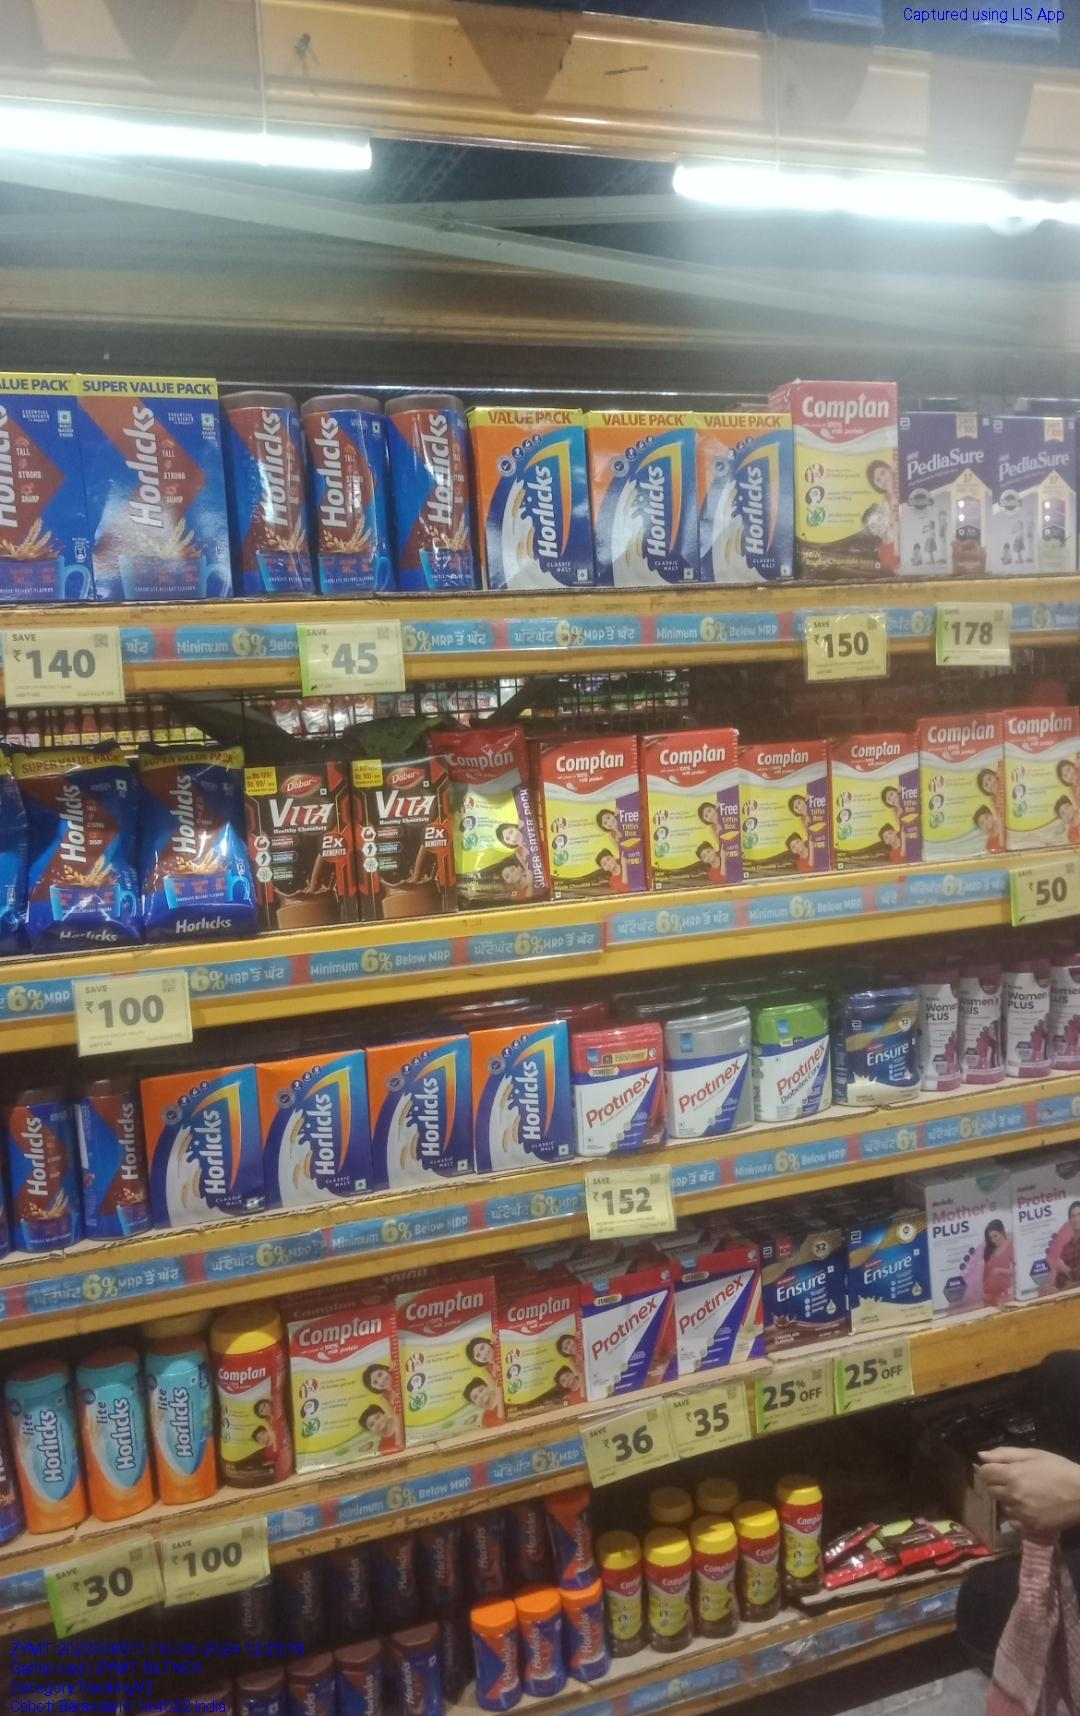ENSURE_VANILLA_400_G_PACK: (854, 1227, 926, 1322)
HORLICKS_LITE_REGULAR_MALT_500_GM_JAR: (152, 1349, 215, 1502), (90, 1355, 146, 1526), (15, 1360, 71, 1529)
HORLICK_CLASSIC_MALT_500_G_PACK: (148, 1063, 265, 1231), (367, 1035, 477, 1192), (269, 1045, 367, 1207), (480, 1020, 567, 1171)
PEDIASURE_CHOCOLATE_500_G_PACK: (905, 417, 998, 580)
PEDIASURE_VANILLA_500_G_PACK: (995, 402, 1080, 574)
PROTINEX_CHOCOLATE_400_G_JAR: (577, 1023, 668, 1152)
PROTINEX_ORIGINAL_400_G_JAR: (667, 1010, 742, 1137)
